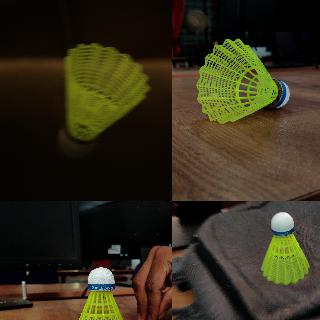shuttlecock: (56, 42, 150, 158), (196, 38, 288, 124), (260, 211, 312, 283), (66, 266, 132, 319)
